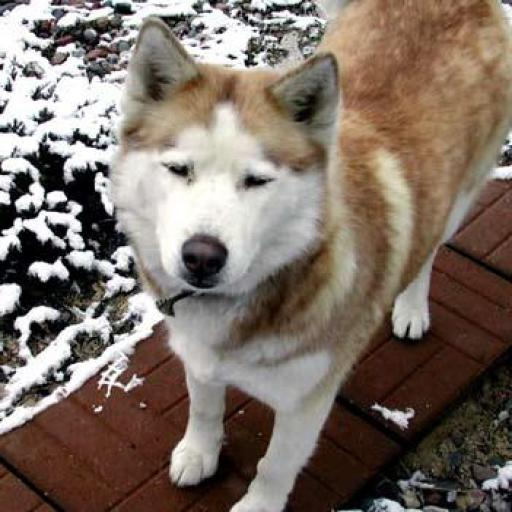dog_face: (128, 31, 338, 276)
